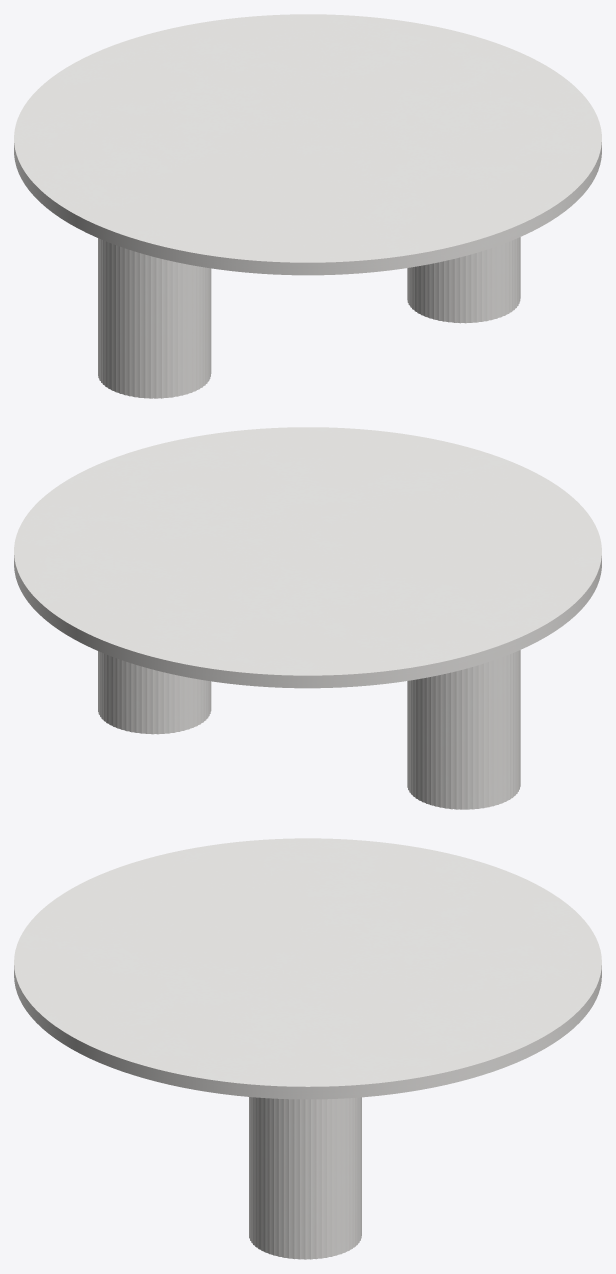
File: purewhite_round_standard_ripplesecond.glb
3 renders of one model, top to bottom at view 1: azimuth 30°, elevation 25°; view 2: azimuth 150°, elevation 25°; view 3: azimuth 270°, elevation 25°, orthographic.
Visible parts, largest first — view 1: standard_round, ripplesecond; view 2: standard_round, ripplesecond; view 3: standard_round, ripplesecond.
Part boxes in pixels (x1,y1,x2,y2): standard_round: (14,14,601,275); ripplesecond: (98,237,520,398); standard_round: (14,427,601,688); ripplesecond: (98,650,520,809); standard_round: (14,838,601,1099); ripplesecond: (249,1097,361,1259).
Bounding box in the file's own units: 6.75 × 2.5 × 6.75.
1 material, 1 textured.
